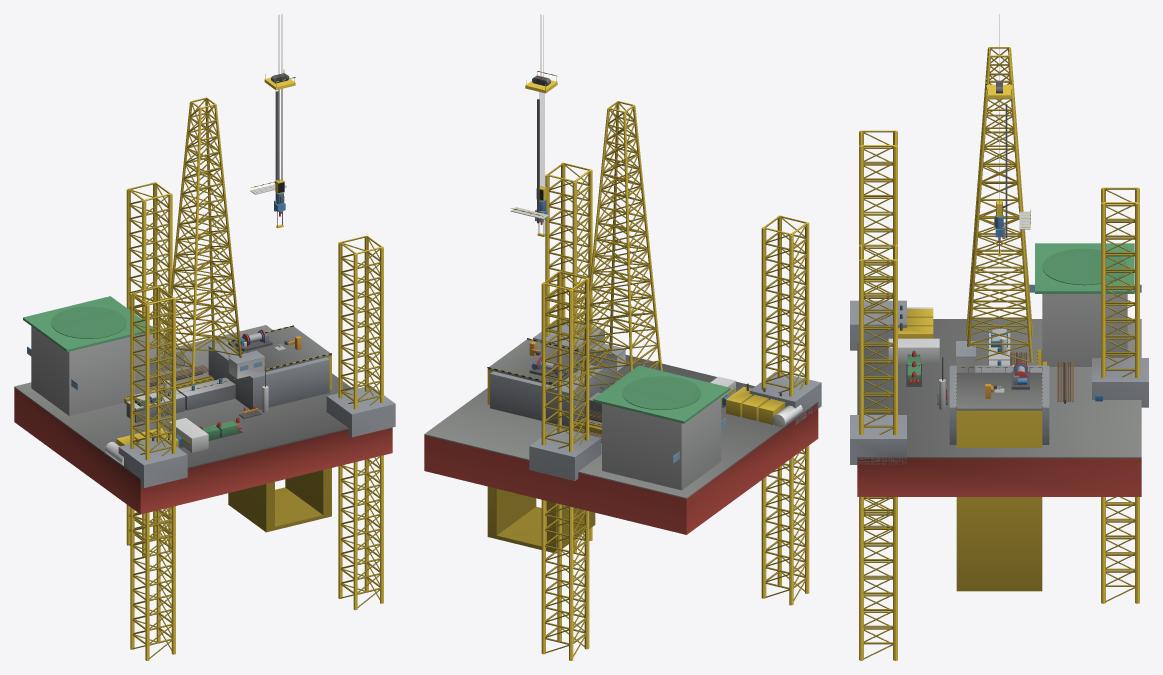
The model's file is jackup_high.glb.
3 views of the same model, side by side, from view 1: azimuth 30°, elevation 25°; view 2: azimuth 150°, elevation 25°; view 3: azimuth 270°, elevation 25° (orthographic). The views are drawn at different scales.
Parts seen in each view (by area): view 1: hull__hull, hull__legs, mast__mast, mast__substructure, mast__floor, mudtanks__tanks, generators__vfd, mast__doghouse, block__travelling; view 2: hull__hull, hull__legs, mast__mast, mast__substructure, mast__floor, generators__gensets, mast__doghouse, block__travelling; view 3: hull__hull, hull__legs, mast__substructure, mast__mast, mast__floor, generators__vfd, generators__gensets, pipehandling__racker, mast__doghouse, block__crown.
Part boxes in pixels (<box>): hull__hull: <box>14,296,392,514</box>; hull__legs: <box>118,182,395,660</box>; mast__mast: <box>163,97,242,383</box>; mast__substructure: <box>228,356,331,532</box>; mast__floor: <box>228,325,331,371</box>; mudtanks__tanks: <box>126,377,235,422</box>; generators__vfd: <box>169,418,208,452</box>; mast__doghouse: <box>228,350,265,378</box>; block__travelling: <box>275,14,284,193</box>; hull__hull: <box>424,340,818,534</box>; hull__legs: <box>529,162,821,660</box>; mast__mast: <box>579,101,662,386</box>; mast__substructure: <box>487,370,595,553</box>; mast__floor: <box>487,338,584,386</box>; generators__gensets: <box>726,383,785,424</box>; mast__doghouse: <box>589,341,626,370</box>; block__travelling: <box>536,14,546,201</box>; hull__hull: <box>857,243,1141,496</box>; hull__legs: <box>850,130,1148,660</box>; mast__substructure: <box>956,410,1042,591</box>; mast__mast: <box>966,47,1032,362</box>; mast__floor: <box>956,367,1042,410</box>; generators__vfd: <box>888,338,939,363</box>; generators__gensets: <box>898,305,933,338</box>; pipehandling__racker: <box>1010,352,1073,403</box>; mast__doghouse: <box>956,341,975,372</box>; block__crown: <box>986,78,1012,98</box>.
Size of what is drawn, in the model's own units: 46.33 by 96.61 by 42.
